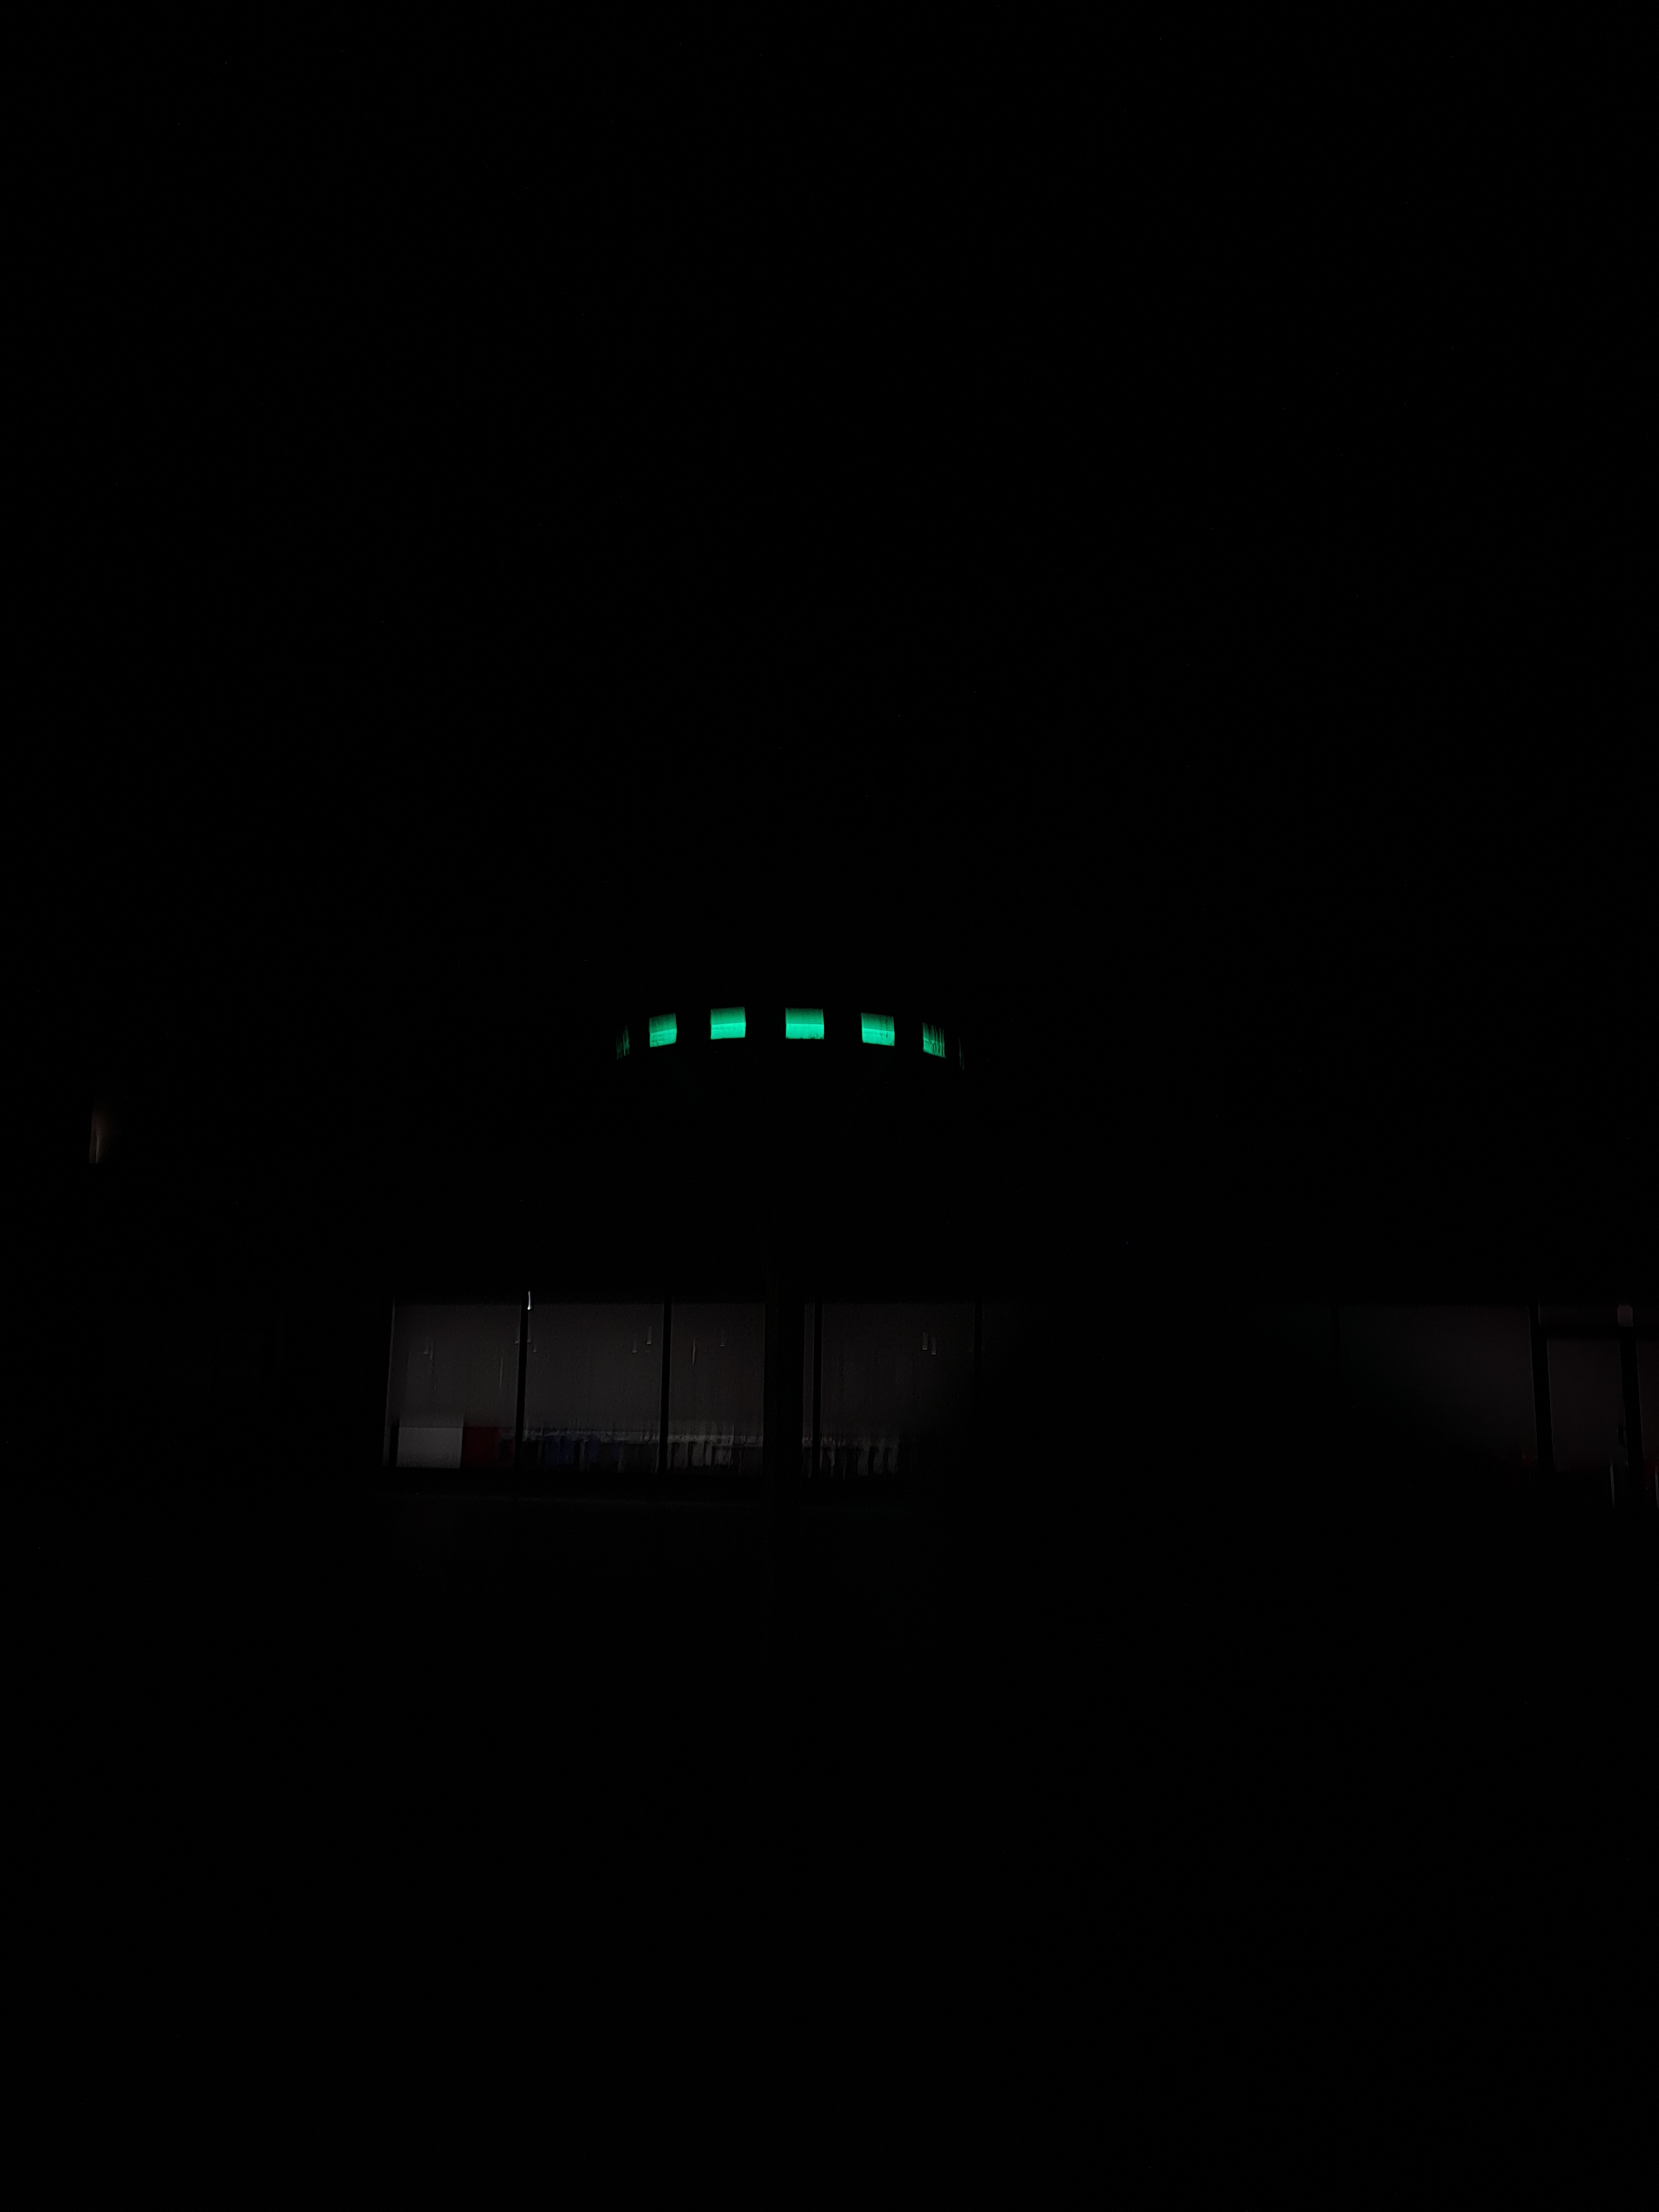hoop: (641, 998, 953, 1064)
